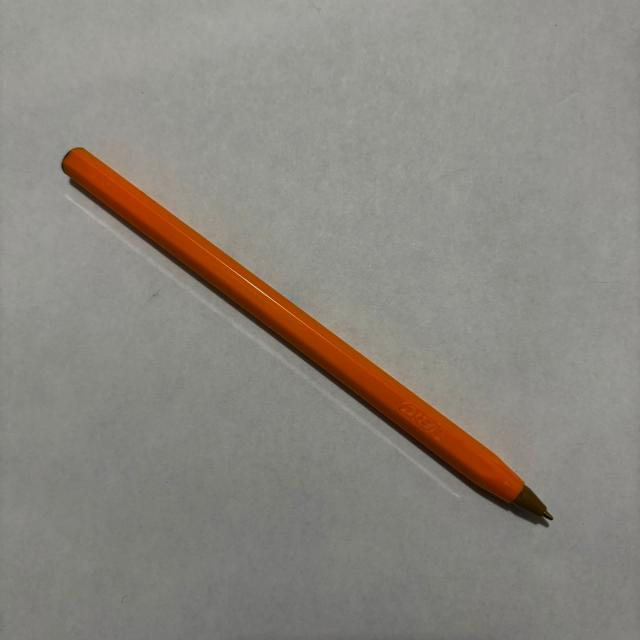pencil: (60, 149, 553, 528)
